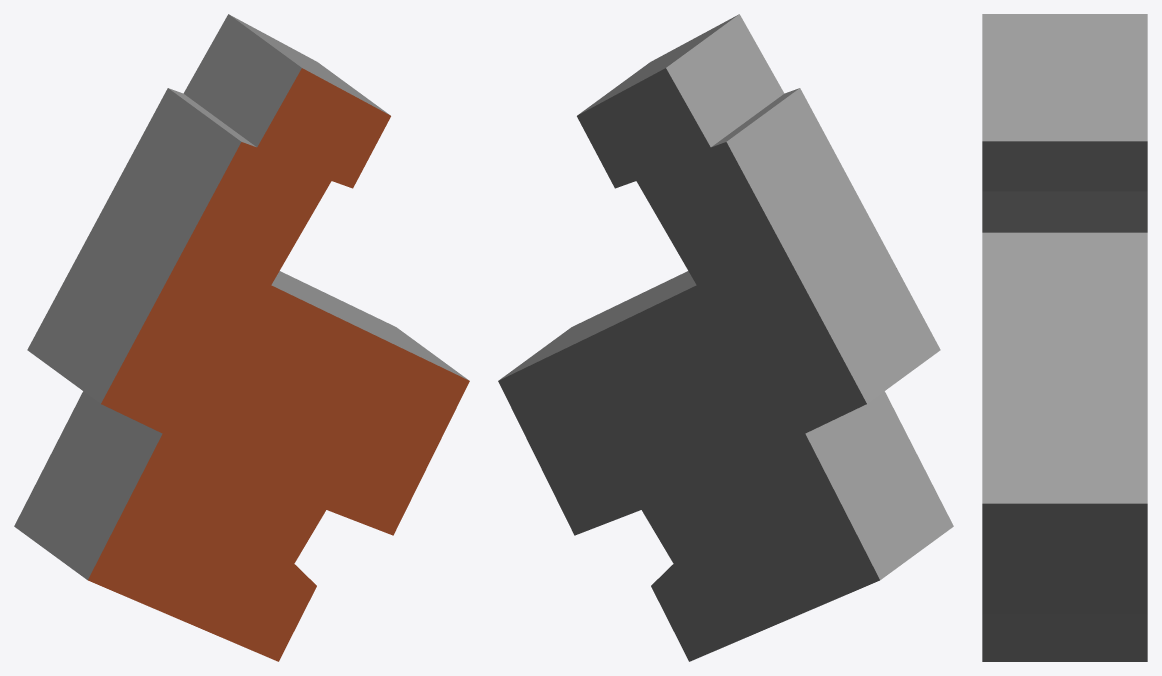
The model's file is construction_6738_assumed_A_Casa_h6m.obj.
3 renders of one model, left to right at view 1: azimuth 30°, elevation 25°; view 2: azimuth 150°, elevation 25°; view 3: azimuth 270°, elevation 25°, orthographic. The views are drawn at different scales.
Parts seen in each view (by area): view 1: construction_6738_assumed_A_Casa; view 2: construction_6738_assumed_A_Casa; view 3: construction_6738_assumed_A_Casa.
Boxes of the visible parts, box(x1,y1,x2,y2) form: construction_6738_assumed_A_Casa: box(14, 14, 469, 661); construction_6738_assumed_A_Casa: box(498, 14, 953, 661); construction_6738_assumed_A_Casa: box(982, 14, 1147, 661).
Size of the model in its own units: 17.97 by 26.44 by 6.
